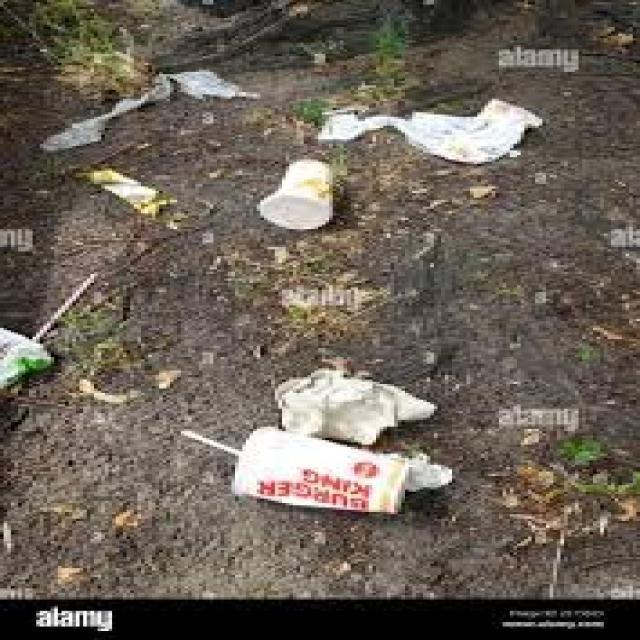food: (224, 349, 467, 446)
leaf: (2, 240, 128, 427)
metal: (302, 65, 587, 173), (36, 30, 260, 163), (50, 166, 198, 225), (6, 1, 8, 2)
trash: (154, 416, 450, 524), (204, 146, 389, 238)
